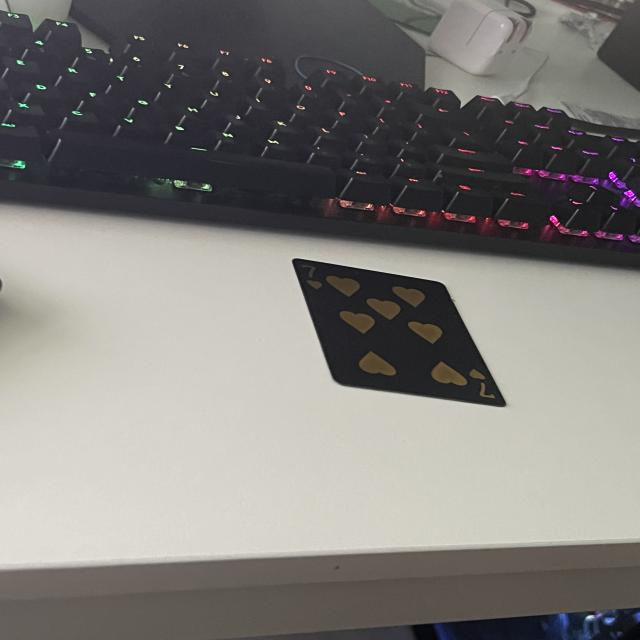7H: (288, 258, 329, 296), (464, 364, 496, 406)
